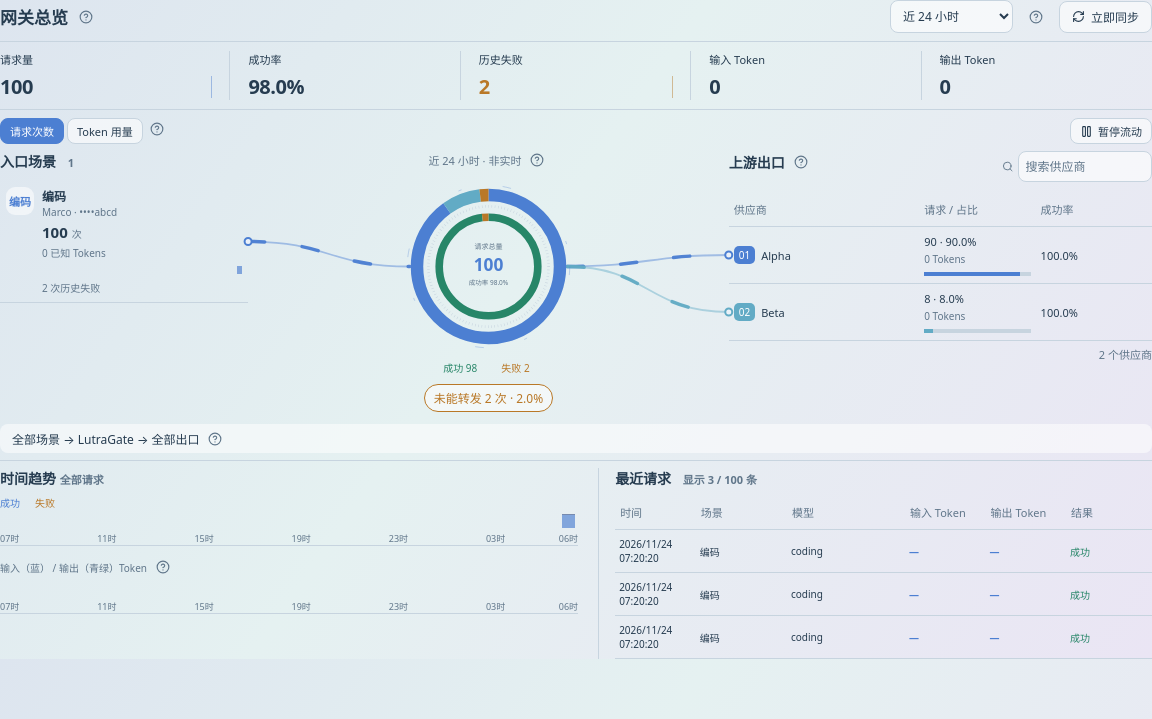
Scenario: instrument overview › supports hourly and custom ranges, rejecting reversed dates
This screenshot has width=1152, height=719.
Expected: the button "Alpha 90.0%" is shown, [417,195,560,338]
# 默认已是 24h 档 → 切 7 天档验证窗口变化触发重查。
Select "近 7 天" in the dropdown named "统计时间范围" at (952, 16), box [890,0,1013,33]
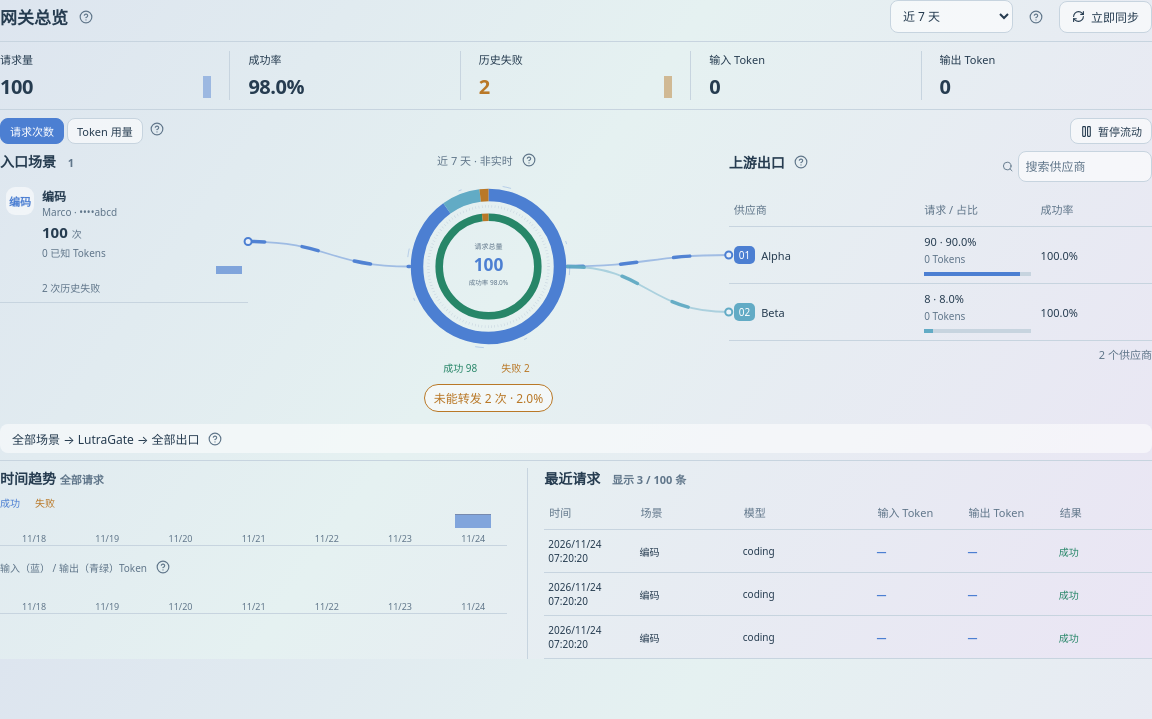
Select "自定义时间范围" in the dropdown named "统计时间范围" at (952, 16), box [890,0,1013,33]
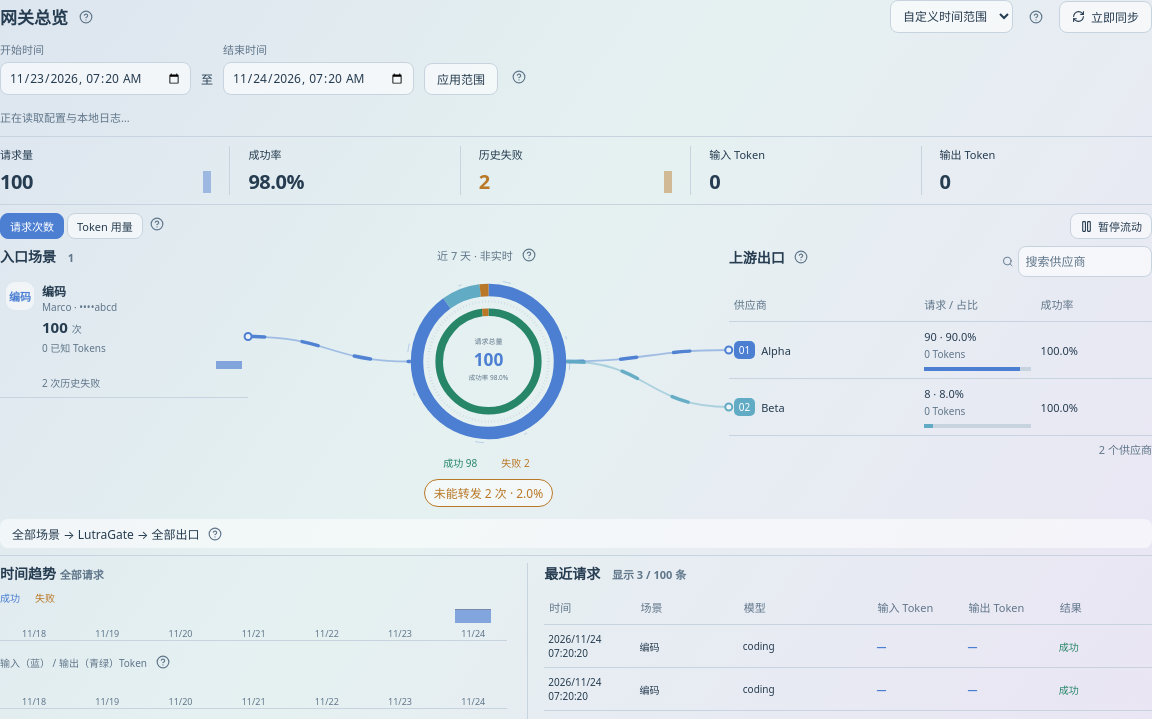
Replace the text in the field labelled "开始时间" with "2026-01-02T00:00" at (96, 78), box [0,62,191,95]
Replace the text in the field labelled "结束时间" with "2026-01-01T00:00" at (318, 78), box [223,62,414,95]
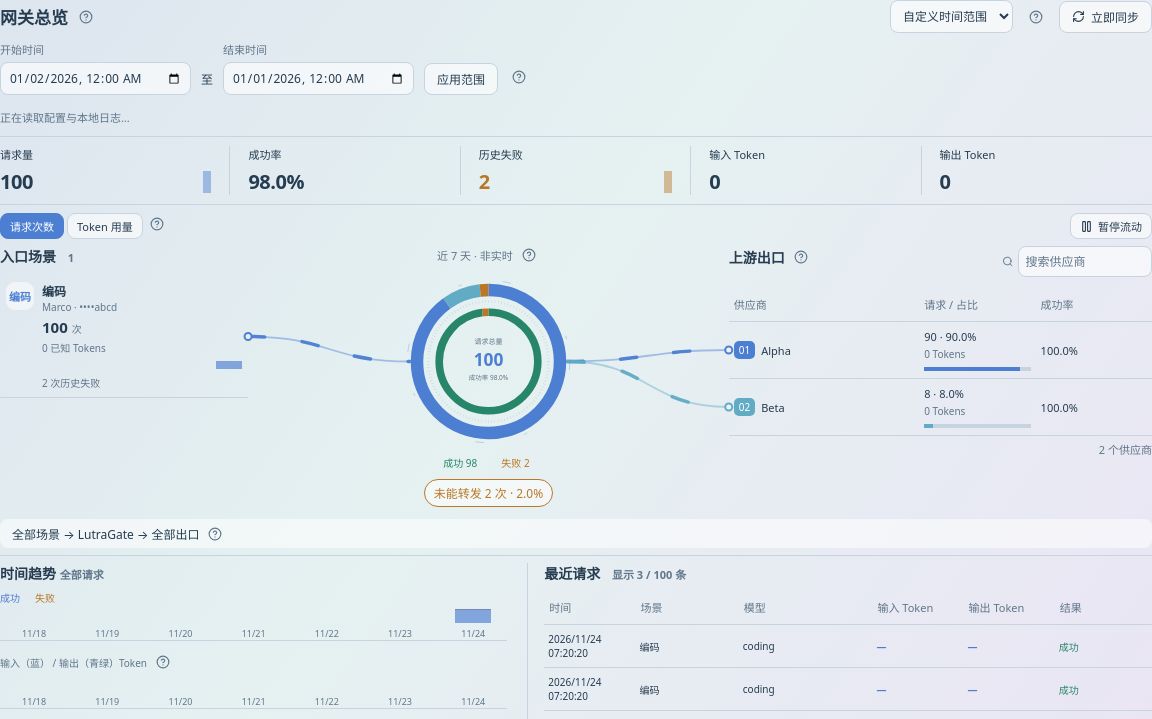
Click the button "应用范围" at (461, 79), box [424,63,498,95]
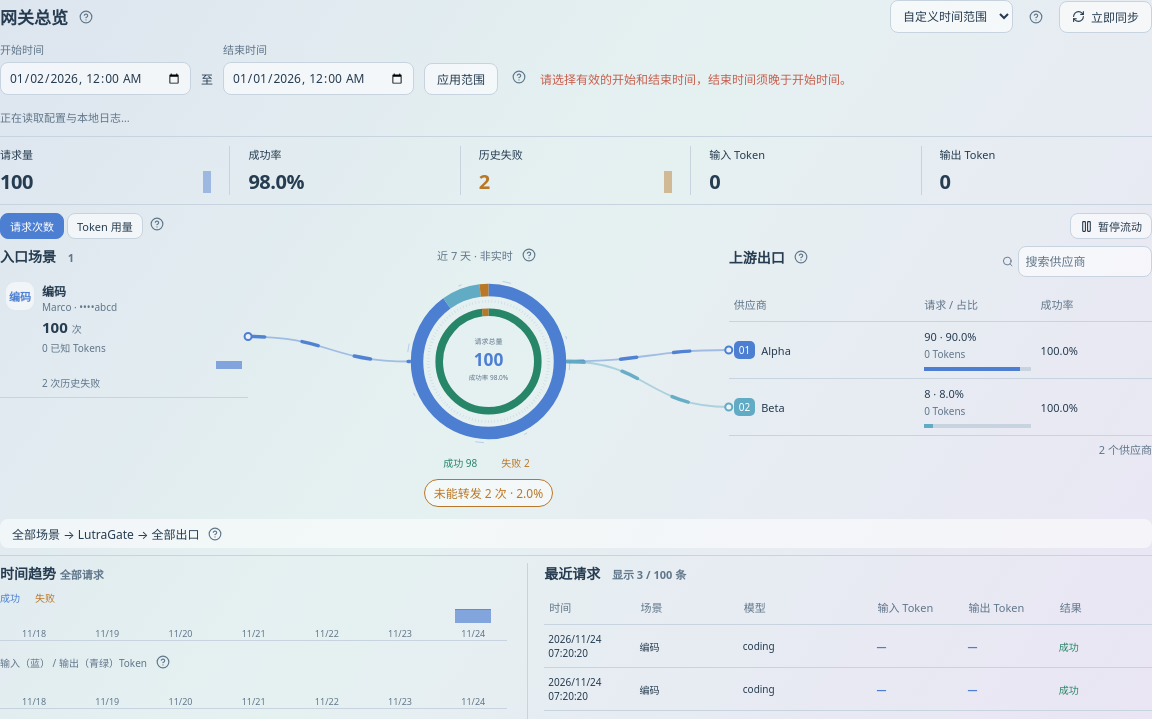
Expected: the message "请选择有效的开始和结束时间，结束时间须晚于开始时间。" is shown, [540,70,852,95]
Replace the text in the field labelled "结束时间" with "2026-01-03T00:00" at (318, 78), box [223,62,414,95]
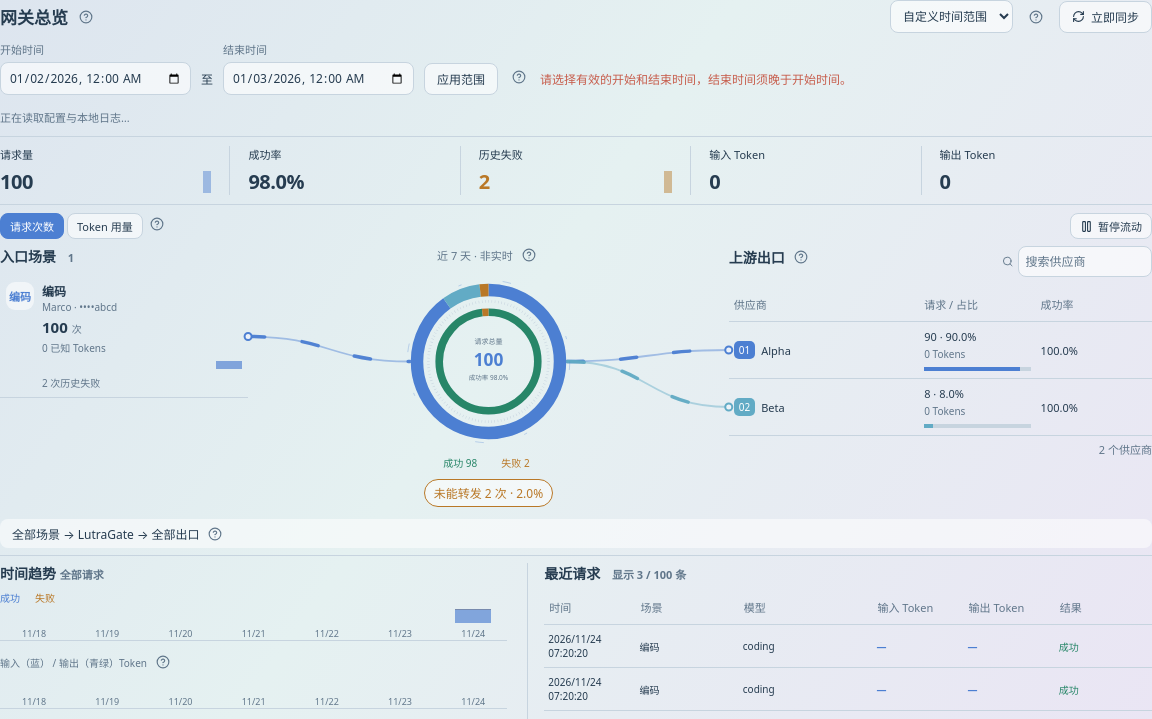
Click the button "应用范围" at (461, 79), box [424,63,498,95]
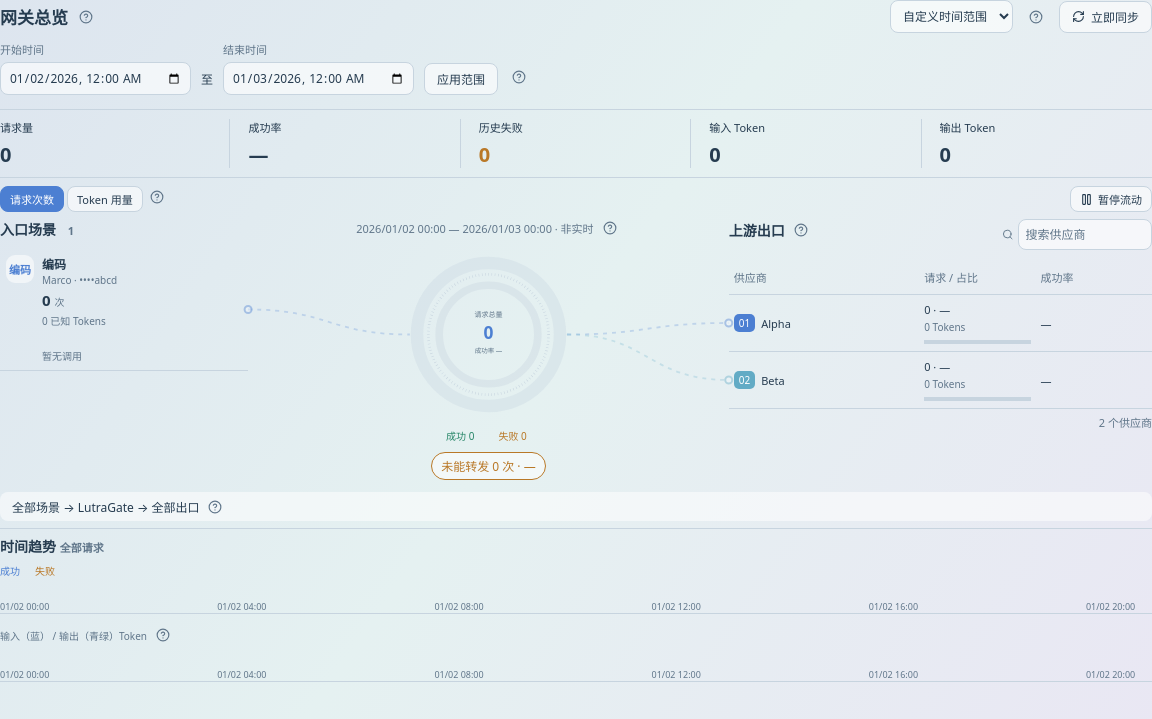
Expected: the message "请选择有效的开始和结束时间，结束时间须晚于开始时间。" is gone
